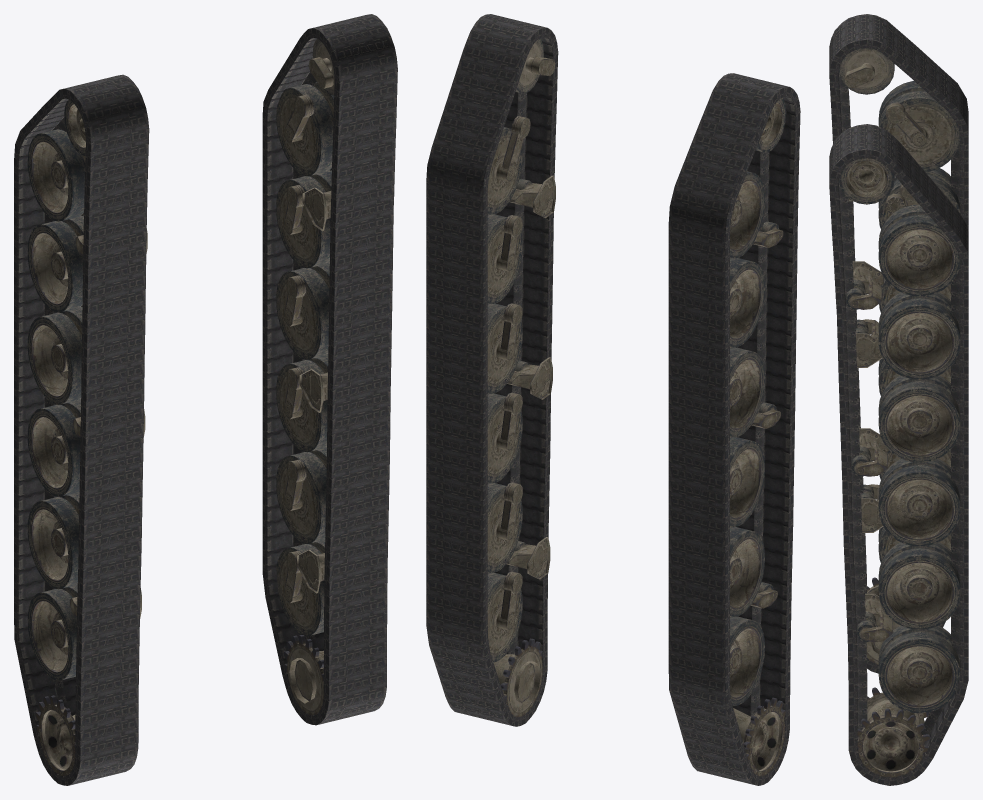
The model's file is Chassis.glb.
3 renders of one model, left to right at view 1: azimuth 30°, elevation 25°; view 2: azimuth 150°, elevation 25°; view 3: azimuth 270°, elevation 25°, orthographic. The views are drawn at different scales.
Visible parts, largest first — view 1: set_3_group_0, set_2_group_0, set_1_group_0, set_0_group_0; view 2: set_3_group_0, set_2_group_0, set_0_group_0, set_1_group_0; view 3: set_0_group_0, set_2_group_0, set_1_group_0, set_3_group_0.
Boxes of the visible parts, bbox=[...] form: set_3_group_0: bbox=[14, 74, 149, 785]; set_2_group_0: bbox=[262, 14, 397, 725]; set_1_group_0: bbox=[27, 99, 147, 775]; set_0_group_0: bbox=[276, 39, 334, 715]; set_3_group_0: bbox=[668, 73, 800, 785]; set_2_group_0: bbox=[426, 14, 558, 726]; set_0_group_0: bbox=[487, 38, 555, 717]; set_1_group_0: bbox=[730, 97, 786, 776]; set_0_group_0: bbox=[839, 158, 960, 777]; set_2_group_0: bbox=[829, 124, 968, 785]; set_1_group_0: bbox=[839, 48, 960, 664]; set_3_group_0: bbox=[829, 14, 968, 673].
Bounding box in the file's own units: 3.13 × 6.84 × 1.36.
Materials: 4 (4 with a texture image).
